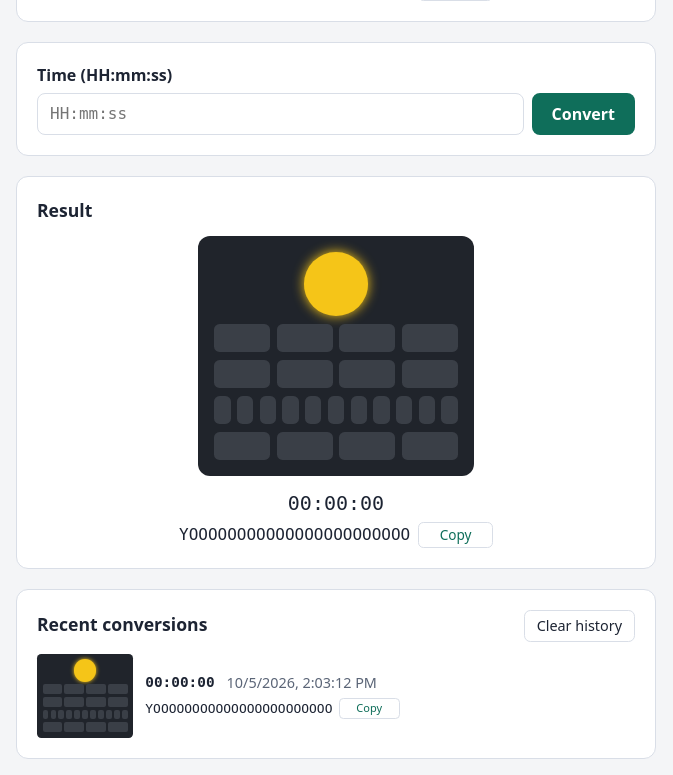
Test: Clearing the history › closes an opened conversion and returns to the home page, without a new Back step
(page scrolled)
Check: the text "YOOOOOOOOOOOOOOOOOOOOOOO" below "Result" is shown, box [179,525,410,544]
Click the button "Clear history".
click(579, 626)  # box [524,610,635,642]
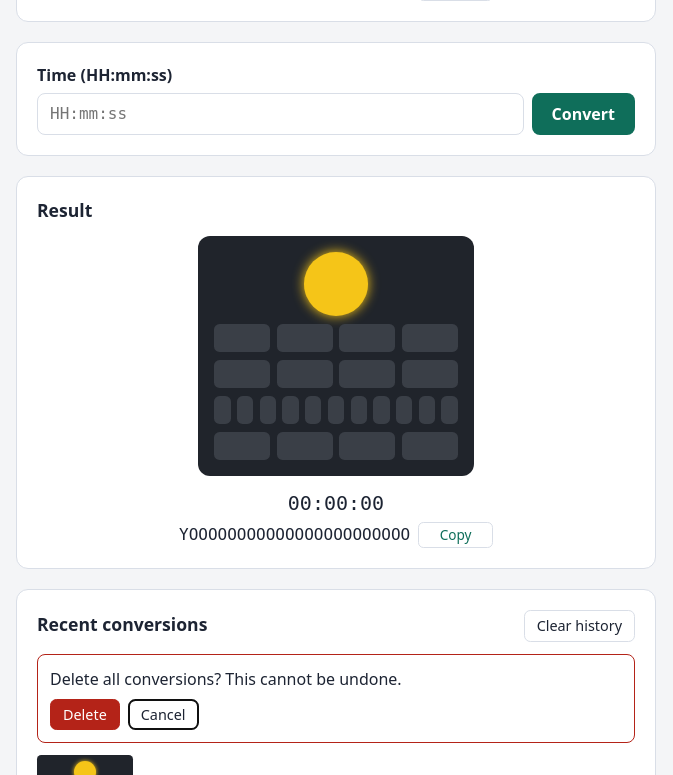
Click the button "Delete".
click(85, 714)  # box [50,699,120,730]
(page scrolled)
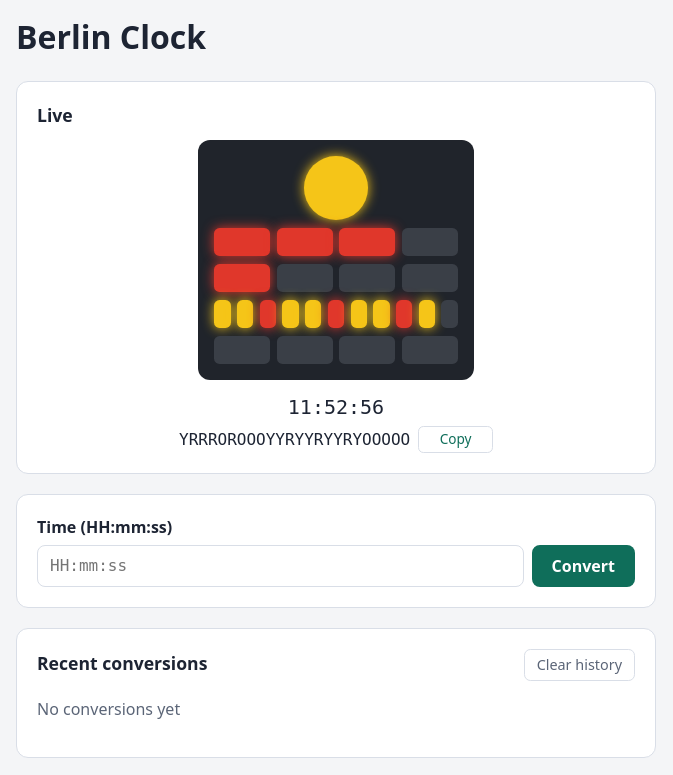
Check: the text "No conversions yet" is shown, box [37,698,180,720]
Check: the heading "Result" is gone
